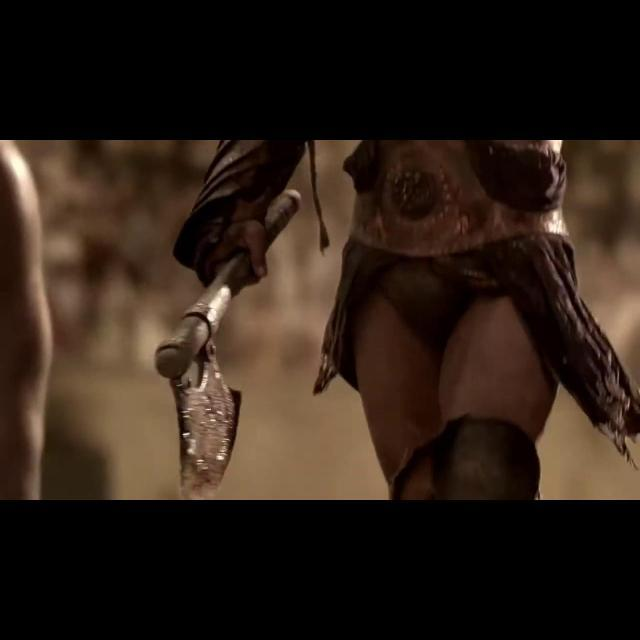blood: (170, 339, 241, 500)
